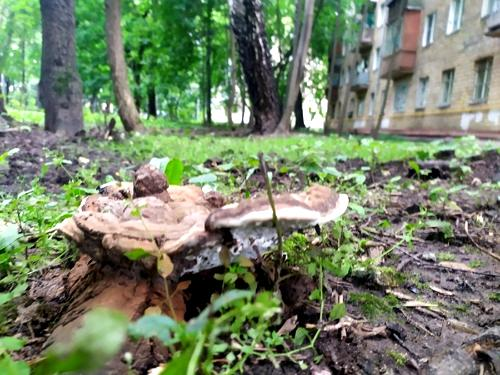Ganoderma - Fruit Body: (57, 168, 349, 275)
